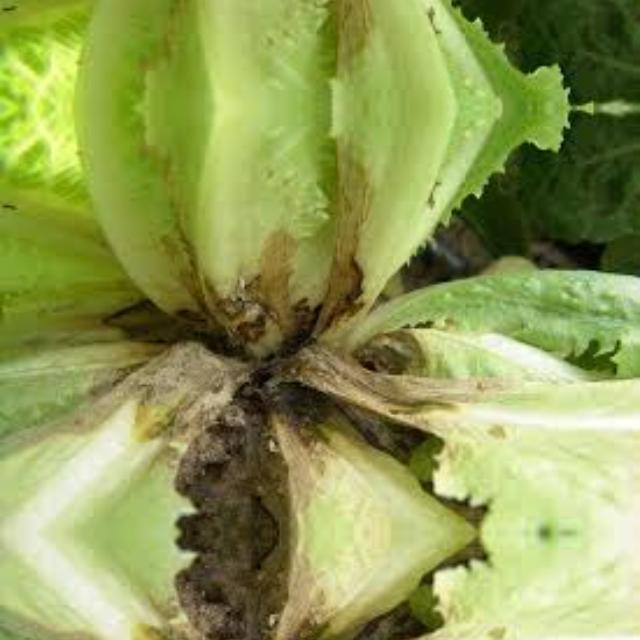Downy_mildew: (68, 149, 472, 533), (68, 533, 472, 640), (68, 0, 472, 65)
